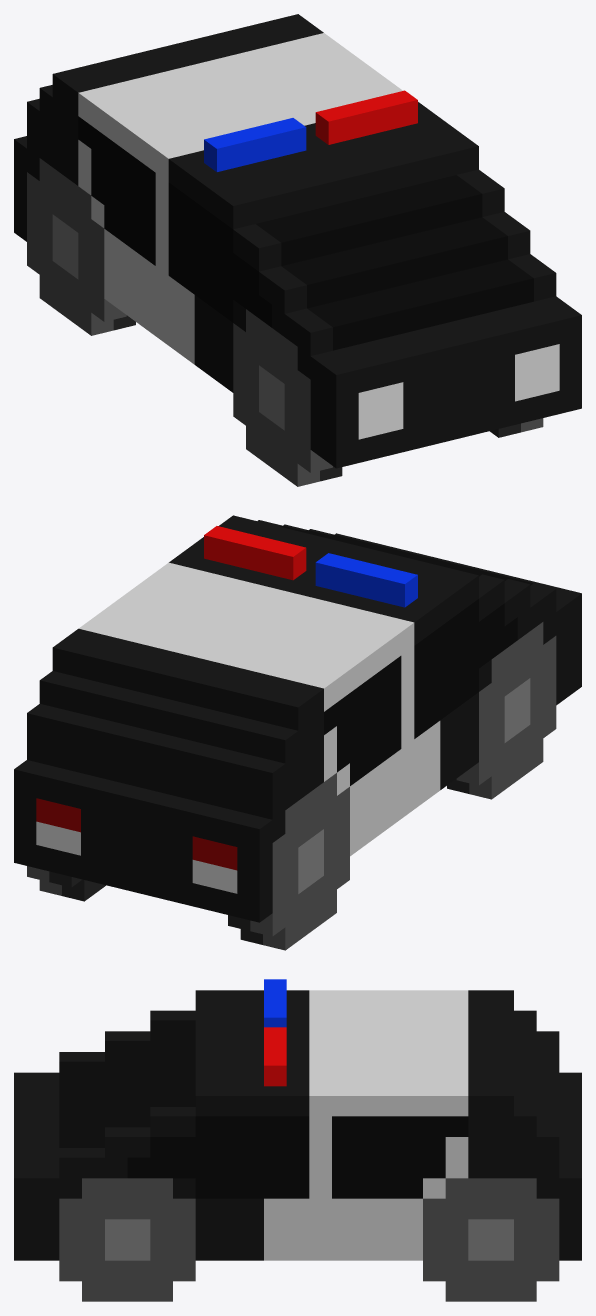
Rendered from police_alt_1.obj.
The picture shows the model from 3 angles, top to bottom: view 1: azimuth 30°, elevation 25°; view 2: azimuth 150°, elevation 25°; view 3: azimuth 270°, elevation 25°; orthographic projection. The views are drawn at different scales.
Visible parts, largest first — view 1: police_alt_1; view 2: police_alt_1; view 3: police_alt_1.
Boxes of the visible parts, box(x1,y1,x2,y2) form: police_alt_1: box(14, 14, 581, 486); police_alt_1: box(14, 515, 581, 950); police_alt_1: box(14, 979, 581, 1301).
Size of the model in its own units: 11 by 11 by 25.
1 material, 1 textured.
